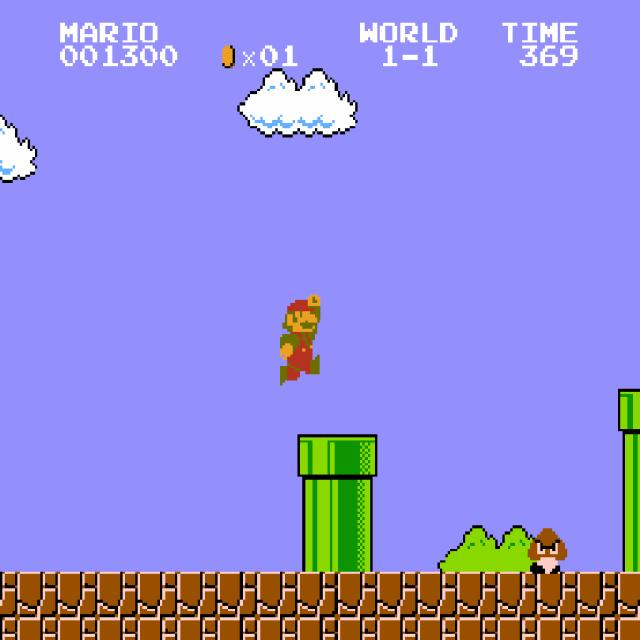big_mario: (277, 292, 320, 386)
goomba: (525, 526, 568, 574)
pipe: (297, 480, 338, 526), (337, 480, 378, 526), (297, 526, 338, 571), (337, 526, 378, 571), (618, 434, 640, 480), (618, 480, 640, 526), (618, 526, 640, 571)
pipe_head: (297, 434, 338, 480), (337, 434, 378, 480), (618, 389, 640, 434)
undestructible_block: (17, 572, 58, 617), (57, 572, 98, 617), (97, 572, 138, 617), (137, 572, 178, 617), (177, 572, 218, 617), (217, 572, 258, 617), (257, 572, 298, 617), (297, 572, 338, 617), (337, 572, 378, 617), (377, 572, 418, 617), (417, 572, 458, 617), (457, 572, 498, 617), (497, 572, 538, 617), (537, 572, 578, 617), (577, 572, 618, 617), (618, 572, 640, 617), (17, 617, 58, 640), (57, 617, 98, 640), (97, 617, 138, 640), (137, 617, 178, 640), (177, 617, 218, 640), (217, 617, 258, 640), (257, 617, 298, 640), (297, 617, 338, 640), (337, 617, 378, 640), (377, 617, 418, 640), (417, 617, 458, 640), (457, 617, 498, 640), (497, 617, 538, 640), (537, 617, 578, 640), (577, 617, 618, 640), (0, 571, 17, 617), (618, 617, 640, 640), (0, 617, 17, 639)
